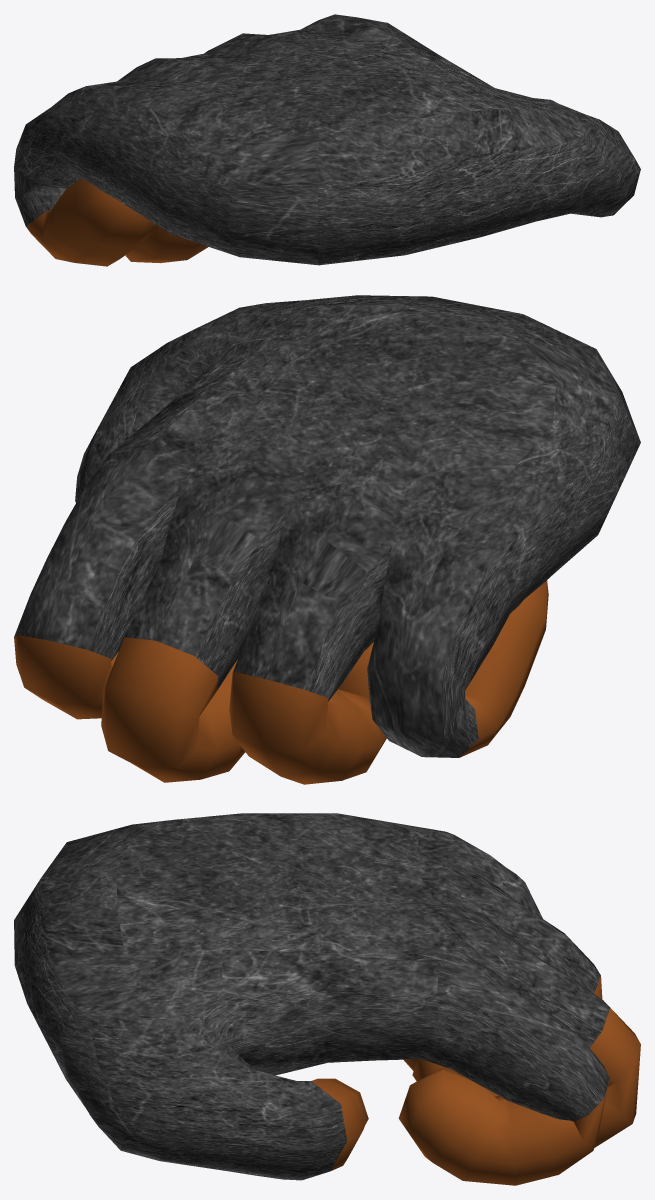
File: hand2L.obj
3 views of the same model, one above another, from view 1: azimuth 30°, elevation 25°; view 2: azimuth 150°, elevation 25°; view 3: azimuth 270°, elevation 25° (orthographic). The views are drawn at different scales.
Parts seen in each view (by area): view 1: 立方体; view 2: 立方体; view 3: 立方体.
Part boxes in pixels (left/top/right/bottom): 立方体: left=14, top=14, right=640, bottom=266; 立方体: left=14, top=295, right=640, bottom=784; 立方体: left=14, top=813, right=640, bottom=1185.
Size of the model in its own units: 1.55 by 0.8137 by 1.7.
